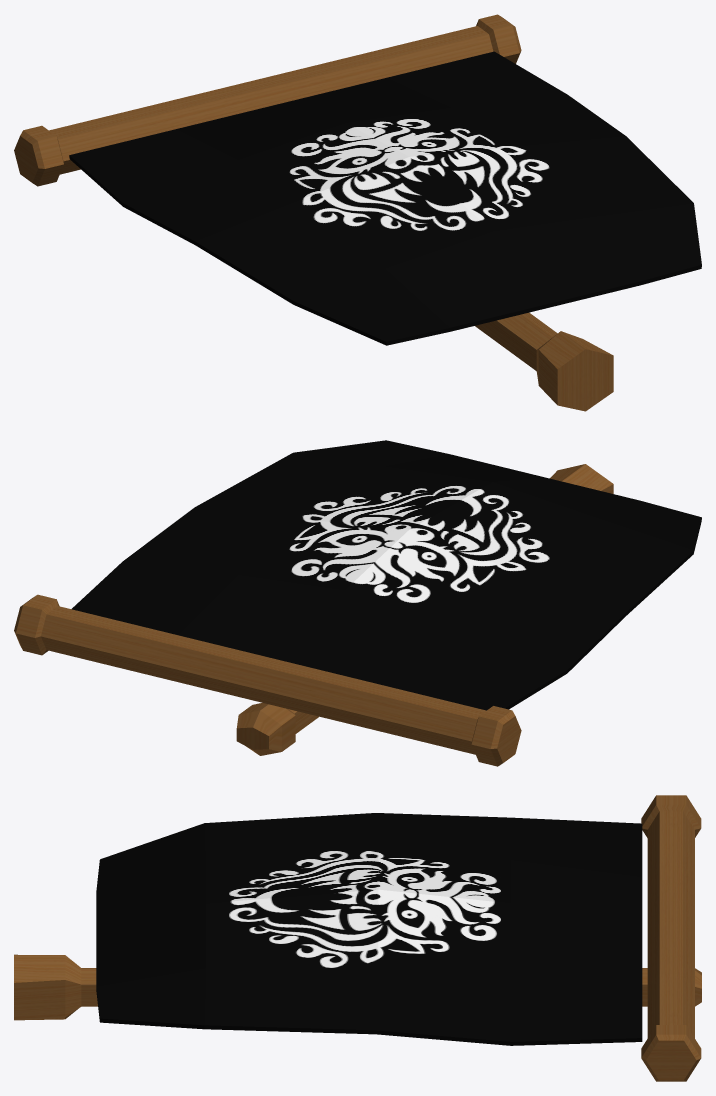
Rendered from sail_a_4.fbx.
3 views of the same model, one above another, from view 1: azimuth 30°, elevation 25°; view 2: azimuth 150°, elevation 25°; view 3: azimuth 270°, elevation 25° (orthographic). The views are drawn at different scales.
Parts seen in each view (by area): view 1: Cube.054; view 2: Cube.054; view 3: Cube.054.
Part boxes in pixels (<box>): Cube.054: <box>14,14,701,411</box>; Cube.054: <box>14,440,701,766</box>; Cube.054: <box>14,795,701,1081</box>.
Bounding box in the file's own units: 86.08 × 21.39 × 103.
